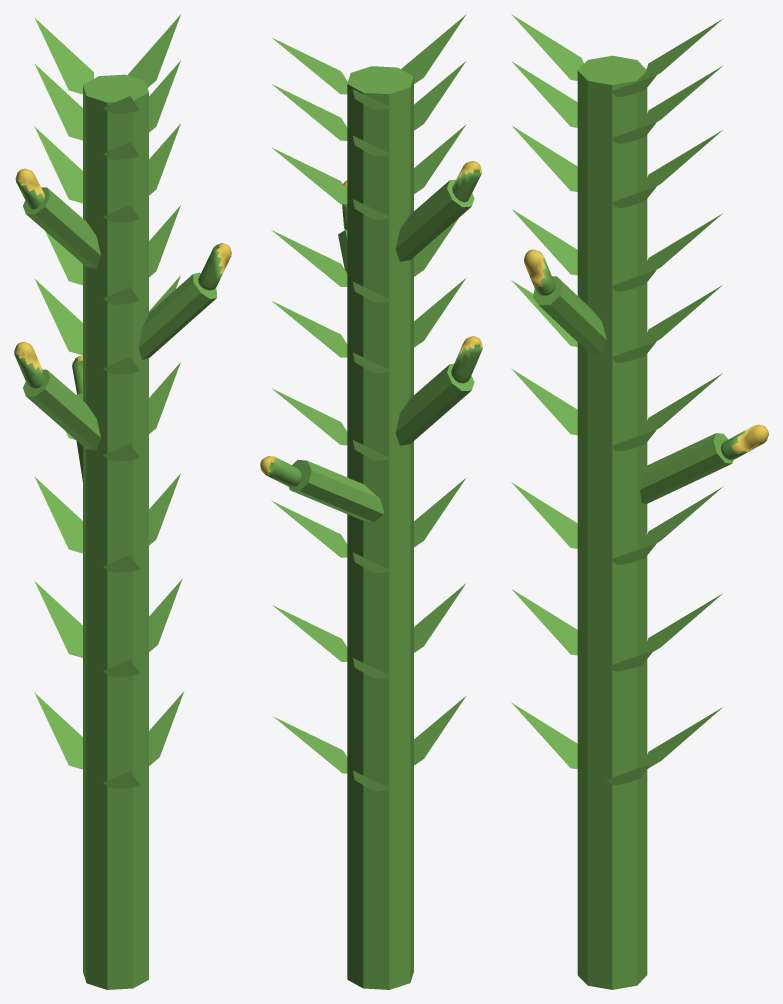
Rendered from Corn_statge_3.glb.
The picture shows the model from 3 angles, left to right: view 1: azimuth 30°, elevation 25°; view 2: azimuth 150°, elevation 25°; view 3: azimuth 270°, elevation 25°; orthographic projection.
Visible parts, largest first — view 1: Cylinder.004, Cylinder.006, Cylinder.008, Cylinder.005, Plane.052, Plane.040, Plane.039, Plane.041, Plane.049, Plane.046, Plane.031, Plane.053 (+11 smaller); view 2: Cylinder.004, Cylinder.009, Cylinder.008, Cylinder.005, Plane.051, Plane.033, Plane.044, Plane.053, Plane.047, Plane.030, Plane.027, Plane.050 (+12 smaller); view 3: Cylinder.004, Cylinder.009, Cylinder.006, Plane.051, Plane.037, Plane.029, Plane.035, Plane.038, Plane.036, Plane.045, Plane.048, Cylinder.011 (+10 smaller).
Boxes of the visible parts, x1,y1,x2,y2 form: Cylinder.004: (83, 74, 148, 989); Cylinder.006: (139, 272, 216, 359); Cylinder.008: (23, 369, 100, 450); Cylinder.005: (23, 187, 100, 268); Plane.052: (34, 17, 93, 94); Plane.040: (35, 582, 82, 657); Plane.039: (34, 476, 82, 553); Plane.041: (34, 692, 82, 769); Plane.049: (34, 63, 82, 140); Plane.046: (34, 126, 82, 203); Plane.031: (35, 279, 82, 355); Plane.053: (127, 14, 180, 87); Cylinder.004: (347, 66, 413, 989); Cylinder.009: (289, 460, 383, 522); Cylinder.008: (395, 363, 474, 445); Cylinder.005: (395, 179, 474, 261); Plane.051: (401, 14, 466, 83); Plane.033: (271, 388, 347, 445); Plane.044: (271, 500, 347, 557); Plane.053: (271, 37, 347, 94); Plane.047: (271, 147, 347, 204); Plane.030: (272, 301, 347, 357); Plane.027: (271, 230, 347, 286); Plane.050: (272, 84, 347, 140); Cylinder.004: (577, 55, 647, 989); Cylinder.009: (640, 433, 733, 504); Cylinder.006: (532, 276, 606, 353); Plane.051: (511, 14, 583, 80); Plane.037: (512, 589, 577, 655); Plane.029: (512, 209, 577, 275); Plane.035: (511, 368, 577, 435); Plane.038: (511, 482, 577, 548); Plane.036: (511, 702, 577, 769); Plane.045: (511, 125, 577, 191); Plane.048: (512, 62, 577, 127); Cylinder.011: (721, 424, 768, 460).
Bounding box in the file's own units: 0.3811 × 1.79 × 0.4444.
